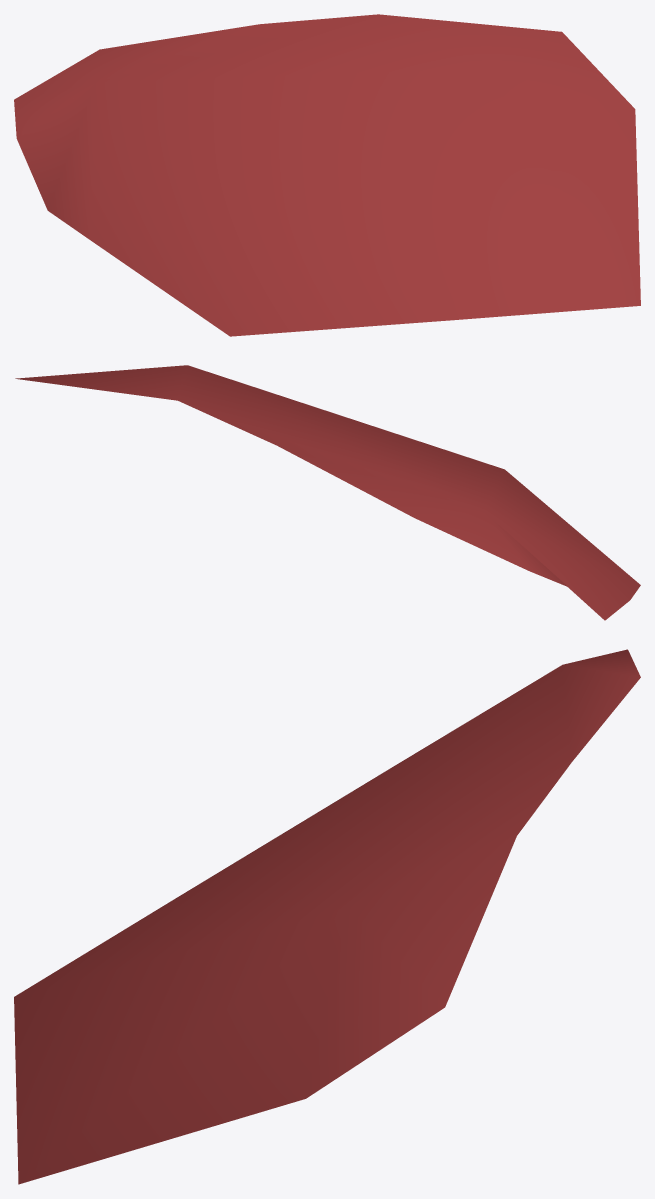
The model's file is extensor-digitorum-longus-e1r.glb.
The picture shows the model from 3 angles, top to bottom: view 1: azimuth 30°, elevation 25°; view 2: azimuth 150°, elevation 25°; view 3: azimuth 270°, elevation 25°; orthographic projection. The views are drawn at different scales.
Parts seen in each view (by area): view 1: Extensor digitorum longus.e1r; view 2: Extensor digitorum longus.e1r; view 3: Extensor digitorum longus.e1r.
Part boxes in pixels (left/top/right/bottom): Extensor digitorum longus.e1r: left=14, top=14, right=640, bottom=336; Extensor digitorum longus.e1r: left=15, top=365, right=640, bottom=620; Extensor digitorum longus.e1r: left=14, top=649, right=640, bottom=1184.
Bounding box in the file's own units: 0.0037 × 0.00128 × 0.00258.
